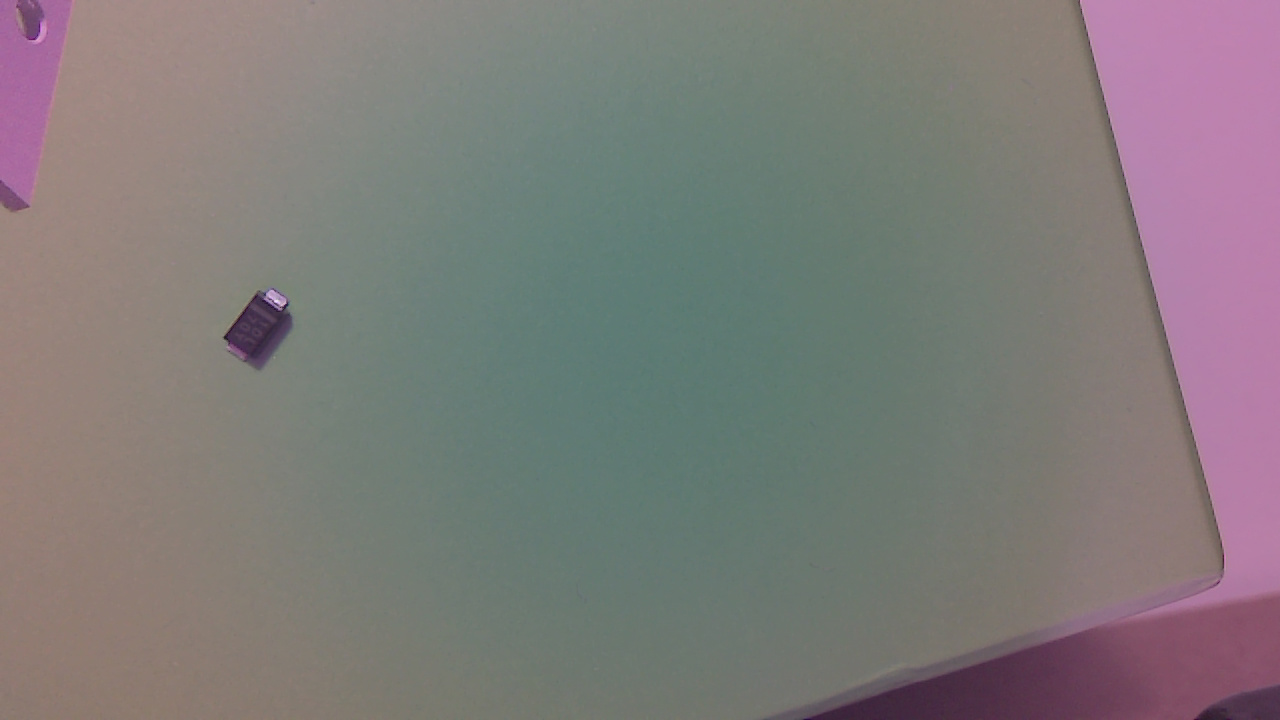Diode: (229, 293, 297, 369)
